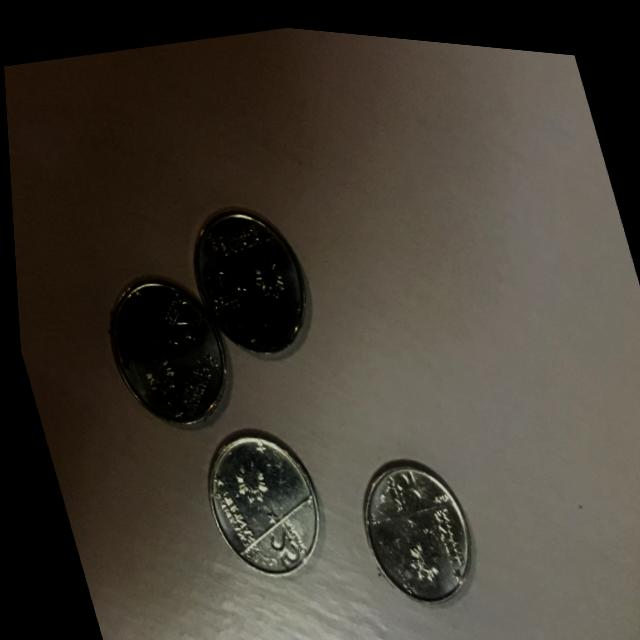25Cent_New_Front: (199, 204, 309, 338), (355, 461, 461, 590), (204, 441, 308, 568), (110, 280, 211, 410)
